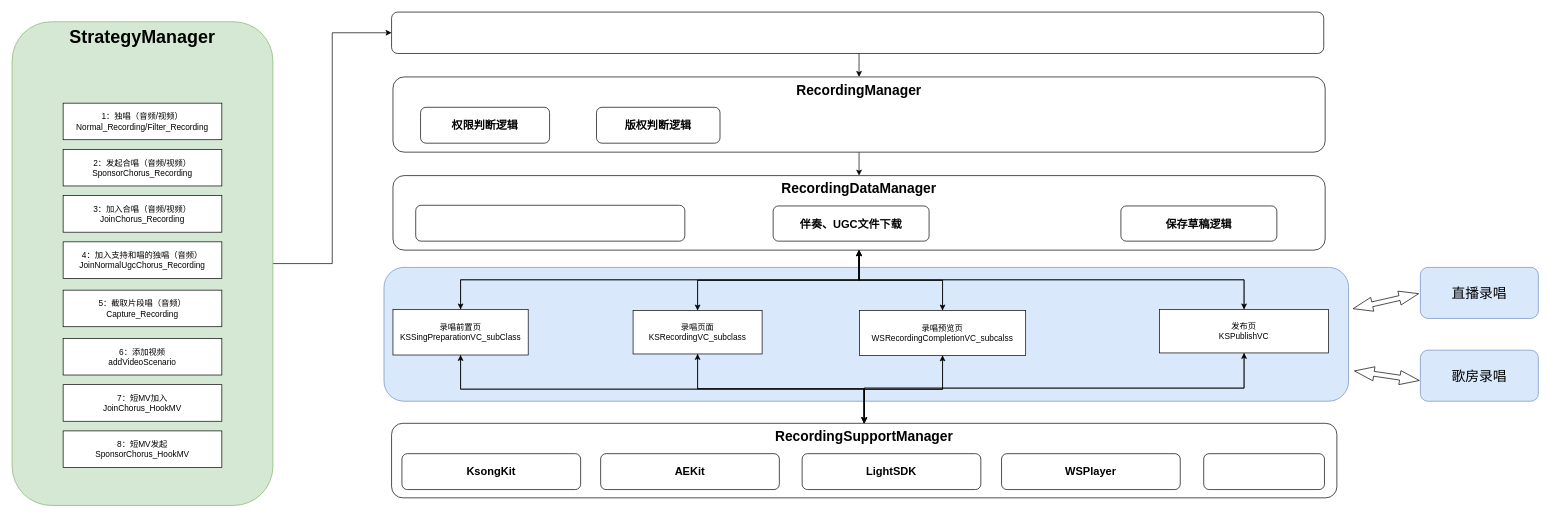
The diagram is 1550 pixels wide and 518 high, and some of its shapes have lost their labels. Each missing label, with the centre of its shape:
DataHelper（录制中间产物，一般指Strategy）: (x=550, y=223)
RecordingRouterManager: (x=857, y=32)
UploadSDK: (x=1263, y=471)
